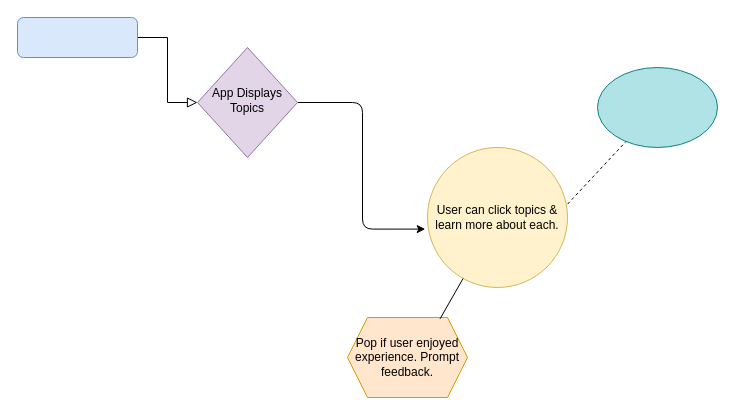
The diagram is 735 pixels wide and 415 high, and some of its shapes have lost their labels. The box of each missing label's shape, as (x1, y1, x2, y2) in pixels:
Open Browser/App: (16, 16, 138, 58)
Provide extra info or trivia info about ??: (596, 66, 718, 148)
